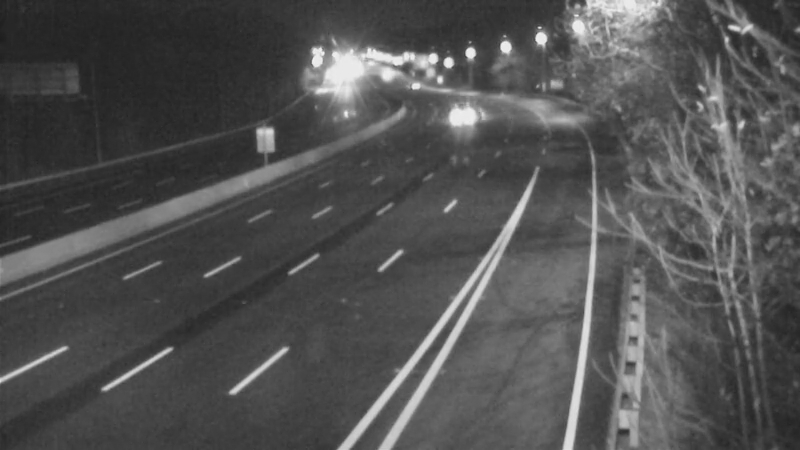vehicle: (363, 52, 413, 102), (389, 59, 439, 109), (447, 85, 497, 135)
